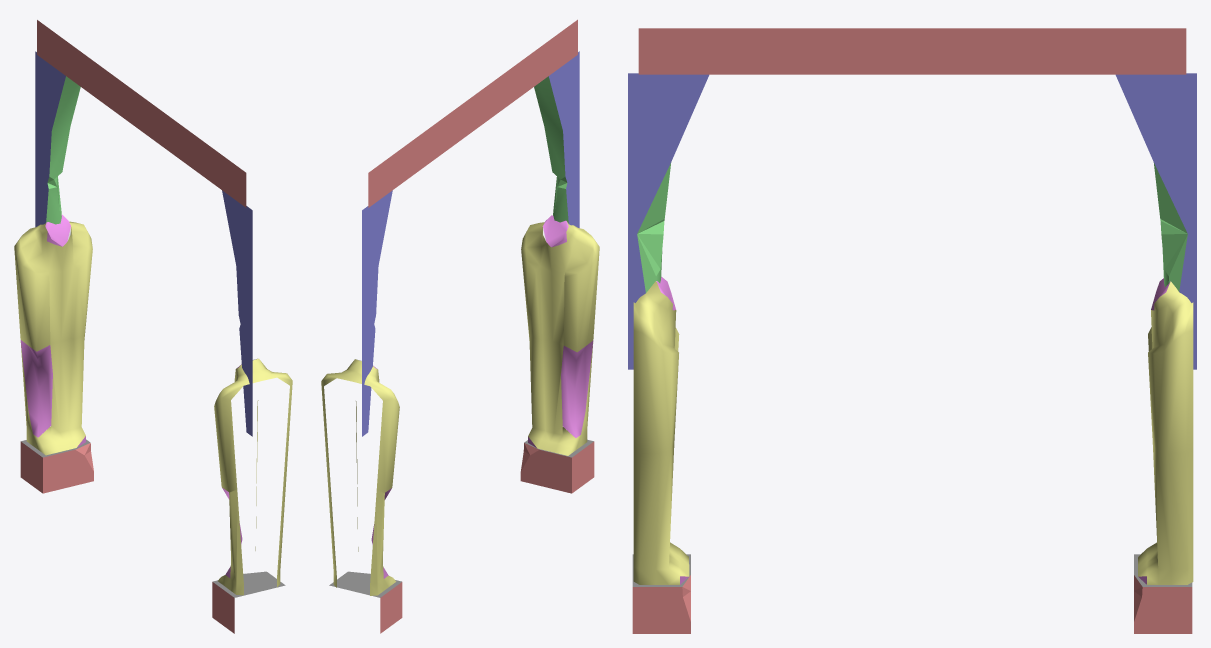
File: SSQ_pillar_012.gltf
3 views of the same model, side by side, from view 1: azimuth 30°, elevation 25°; view 2: azimuth 150°, elevation 25°; view 3: azimuth 270°, elevation 25° (orthographic). The views are drawn at different scales.
Visible parts, largest first — view 1: SSQ_pillar_012; view 2: SSQ_pillar_012; view 3: SSQ_pillar_012.
Part boxes in pixels (x1,y1,x2,y2): SSQ_pillar_012: (14, 20, 292, 633); SSQ_pillar_012: (321, 19, 599, 633); SSQ_pillar_012: (628, 28, 1196, 633).
Size of the model in its own units: 0.6532 by 3.85 by 3.32.
